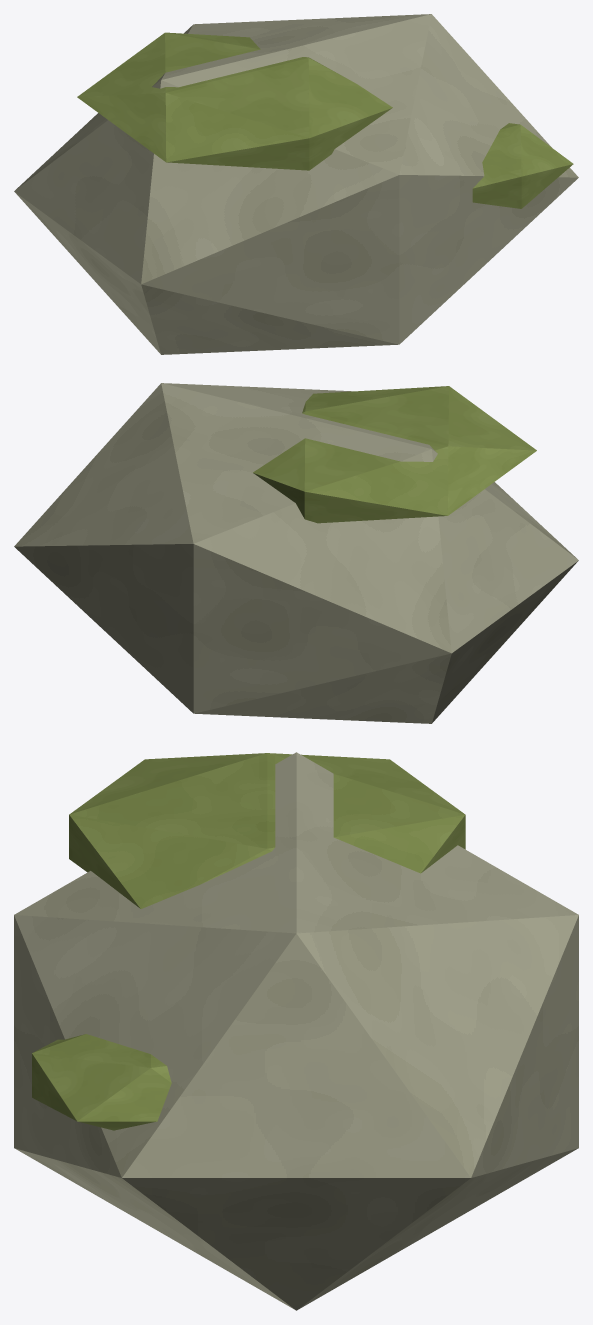
File: pedra-musgosa-v02.gltf
3 views of the same model, one above another, from view 1: azimuth 30°, elevation 25°; view 2: azimuth 150°, elevation 25°; view 3: azimuth 270°, elevation 25° (orthographic). The views are drawn at different scales.
Parts seen in each view (by area): view 1: forma, musgo; view 2: forma, musgo; view 3: forma, musgo.
Part boxes in pixels (x1,y1,x2,y2): forma: (14, 14, 578, 354); musgo: (77, 32, 573, 208); forma: (14, 383, 578, 723); musgo: (253, 386, 536, 523); forma: (14, 752, 578, 1310); musgo: (32, 753, 465, 1130).
Bounding box in the file's own units: 1.19 × 0.7145 × 0.9697.
Materials: 1 (1 with a texture image).
